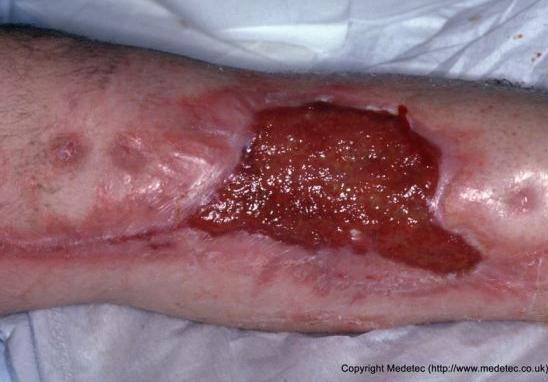NonPU: (16, 73, 538, 315)
